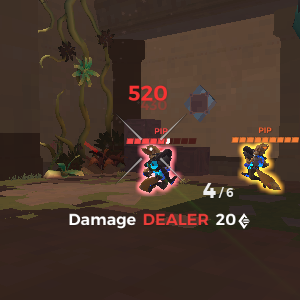model: (235, 143, 285, 197), (136, 145, 179, 193)
